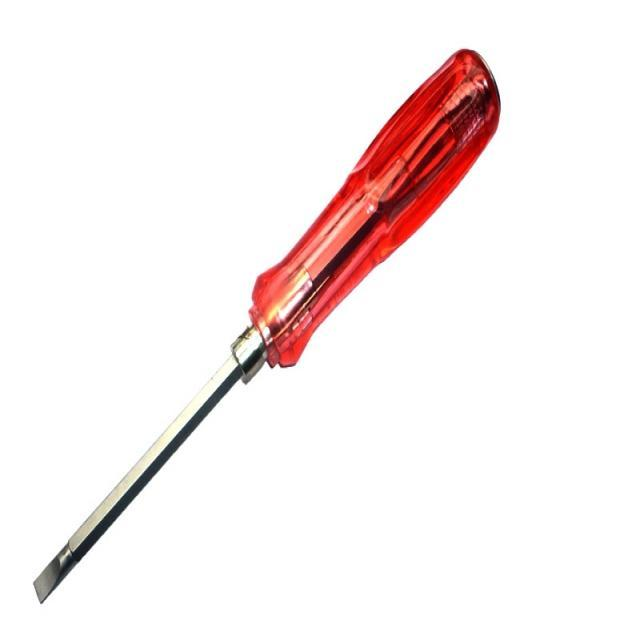screwdriver: (33, 38, 504, 607)
